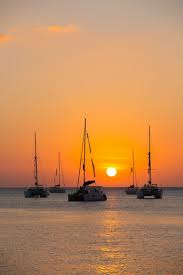boat: (68, 117, 108, 203), (138, 126, 163, 200), (24, 133, 46, 198), (48, 151, 67, 193), (125, 147, 140, 195)
